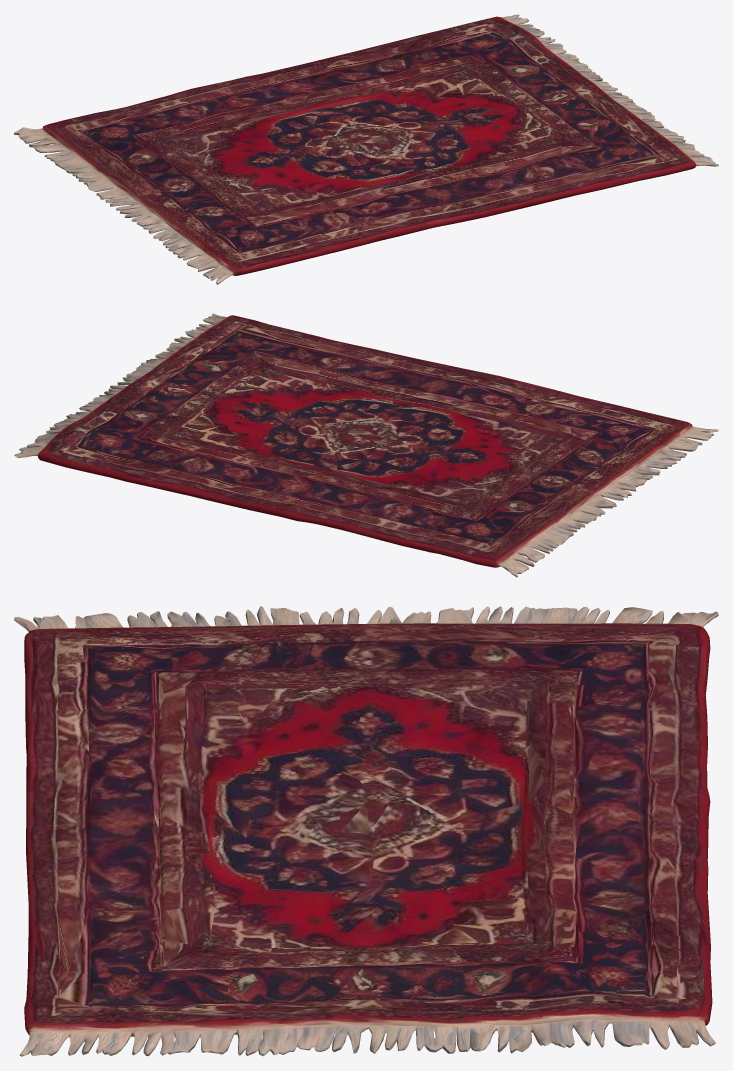
Rendered from rug_persian_idle.glb.
3 renders of one model, top to bottom at view 1: azimuth 30°, elevation 25°; view 2: azimuth 150°, elevation 25°; view 3: azimuth 270°, elevation 25°, orthographic. The views are drawn at different scales.
Visible parts, largest first — view 1: tripo_node_0c1be2c8-37d9-467e-9fa7-56fafc569a3c; view 2: tripo_node_0c1be2c8-37d9-467e-9fa7-56fafc569a3c; view 3: tripo_node_0c1be2c8-37d9-467e-9fa7-56fafc569a3c.
Boxes of the visible parts, x1,y1,x2,y2 form: tripo_node_0c1be2c8-37d9-467e-9fa7-56fafc569a3c: [14, 14, 718, 284]; tripo_node_0c1be2c8-37d9-467e-9fa7-56fafc569a3c: [14, 313, 718, 577]; tripo_node_0c1be2c8-37d9-467e-9fa7-56fafc569a3c: [14, 606, 718, 1056].
Bounding box in the file's own units: 2 × 0.0759 × 1.38.
1 material, 1 textured.
